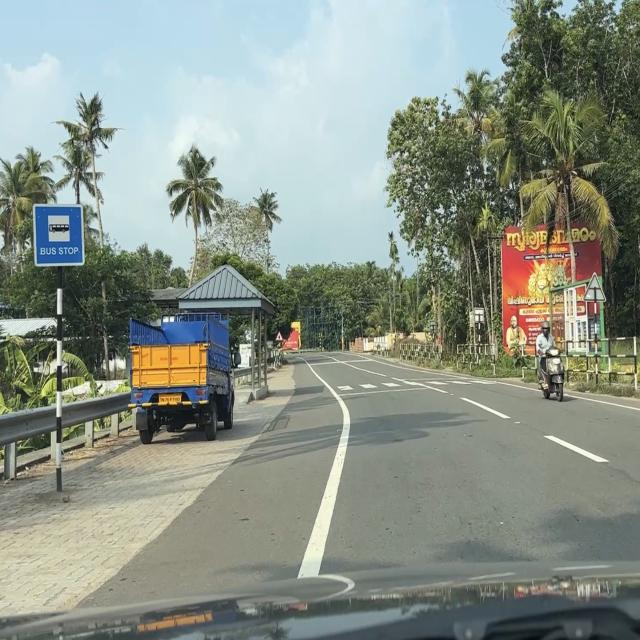INFORMATION: (31, 202, 86, 268)
